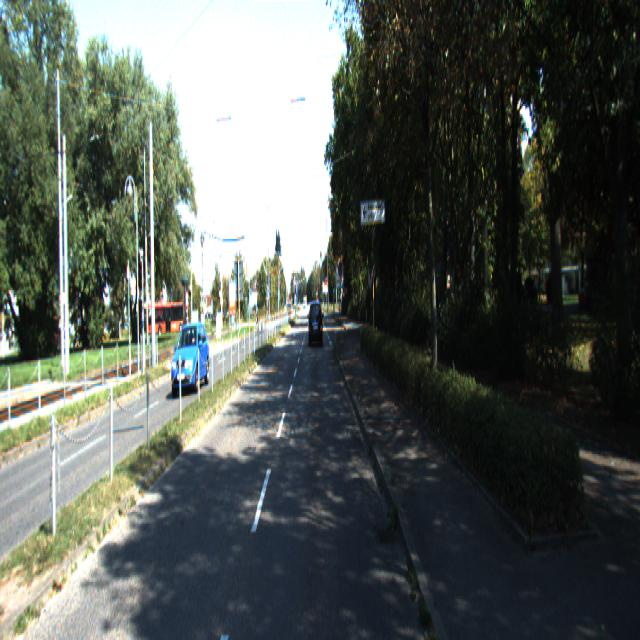Car: (171, 321, 210, 396), (309, 301, 323, 348)
